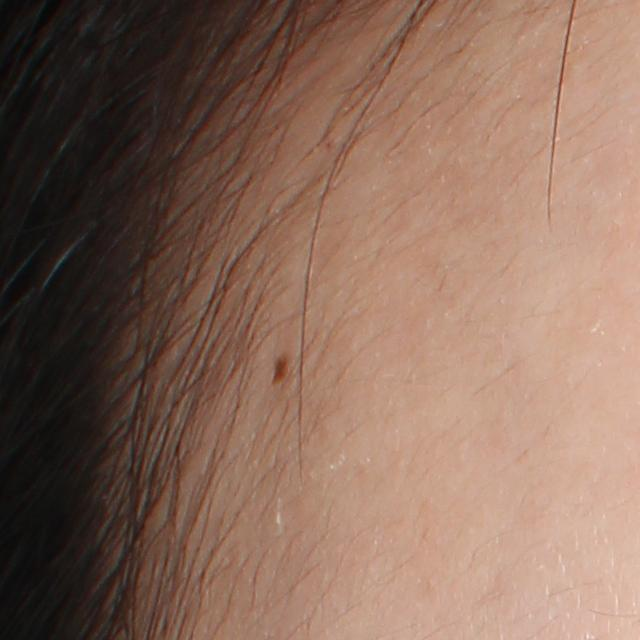nevus: (270, 352, 293, 387)
